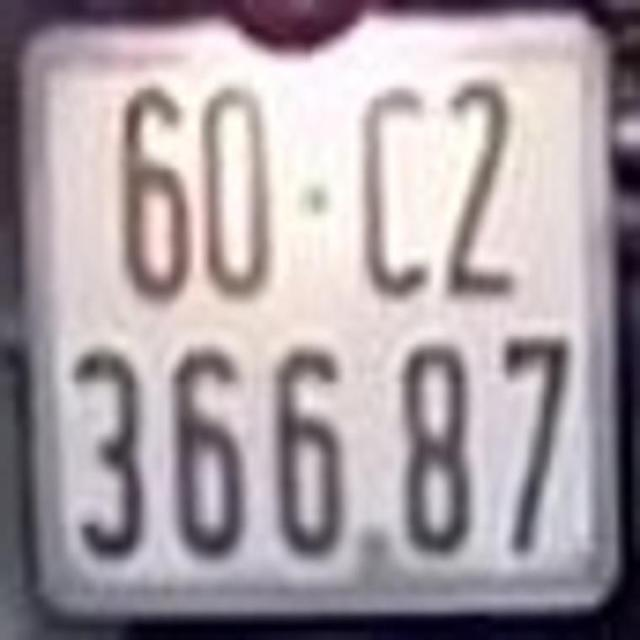0: (200, 82, 272, 299)
2: (444, 76, 520, 300)
3: (69, 346, 146, 560)
6: (117, 81, 193, 302), (171, 343, 245, 559), (273, 344, 345, 558)
7: (498, 330, 572, 555)
8: (401, 339, 471, 557)
C: (359, 80, 432, 297)
